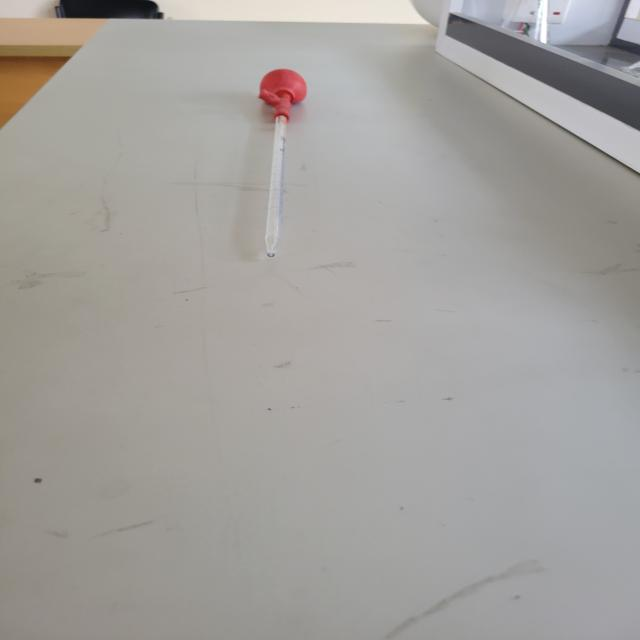Volumetric_Pipet: (223, 37, 333, 285)
